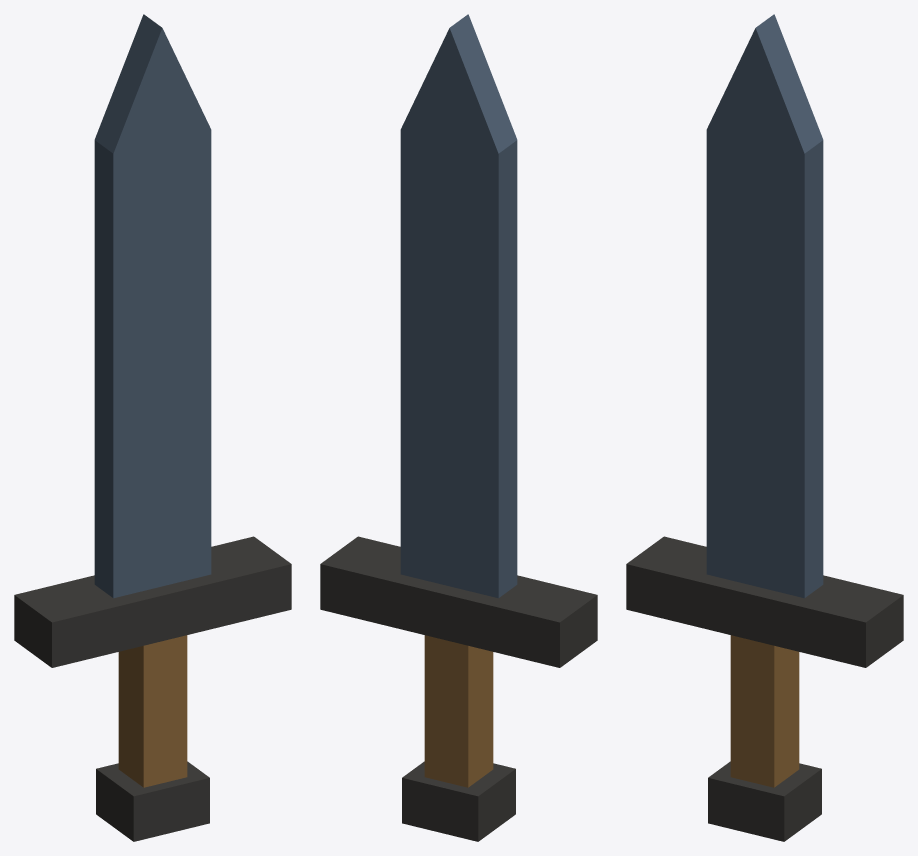
File: sword_steel.fbx
3 views of the same model, side by side, from view 1: azimuth 30°, elevation 25°; view 2: azimuth 150°, elevation 25°; view 3: azimuth 330°, elevation 25° (orthographic).
Visible parts, largest first — view 1: sword_steel; view 2: sword_steel; view 3: sword_steel.
Part boxes in pixels (x1=…): sword_steel: x1=14, y1=14, x2=291, y2=841; sword_steel: x1=320, y1=14, x2=597, y2=841; sword_steel: x1=626, y1=14, x2=903, y2=841.
Size of the model in its own units: 0.66 by 2.1 by 0.18.
